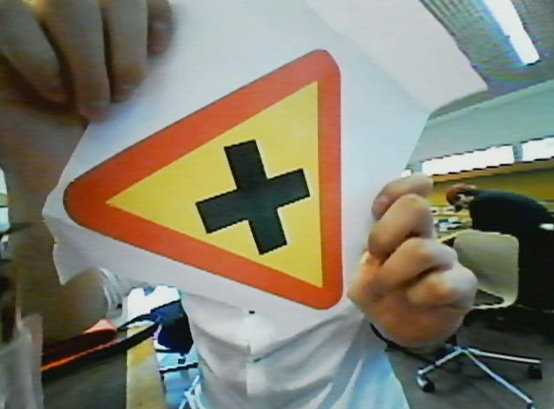junction: (59, 45, 363, 314)
